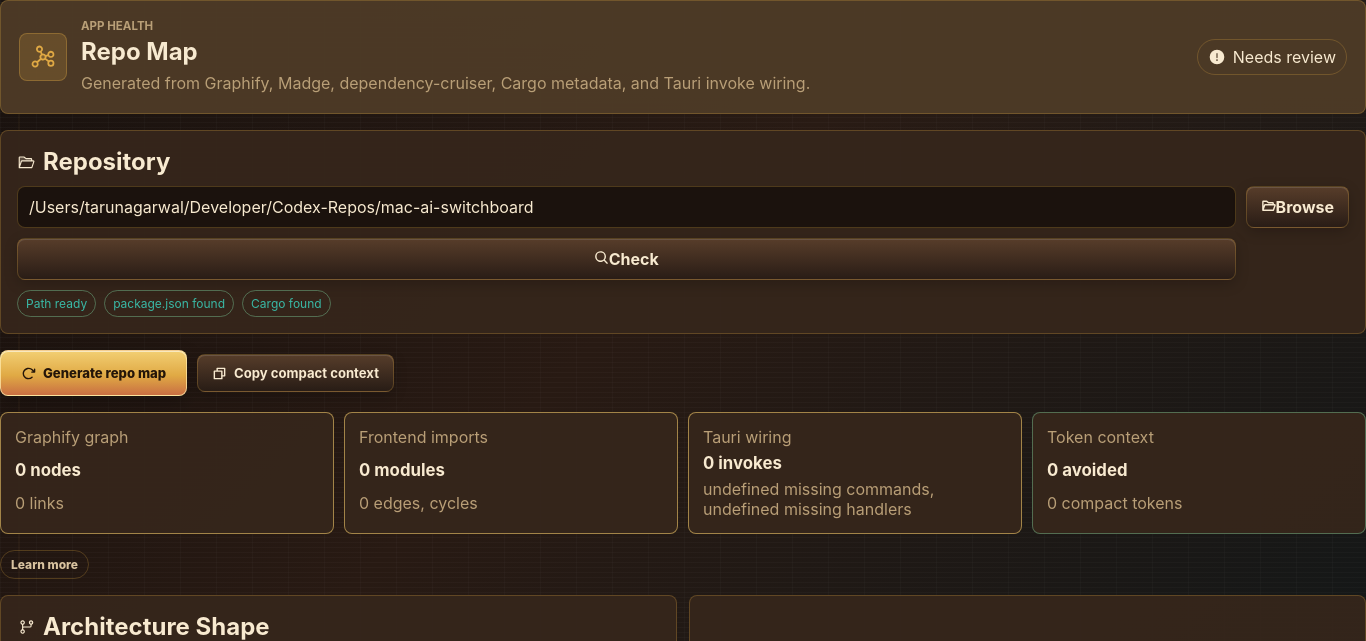
RepoMapView job and artifact flows › surfaces generation failure and retries successfully
The image size is (1366, 641).
Expected: the text "Path ready" is shown, [17, 290, 96, 317]
Click the button "Generate repo map".
click(94, 373)  # box [0, 350, 187, 396]
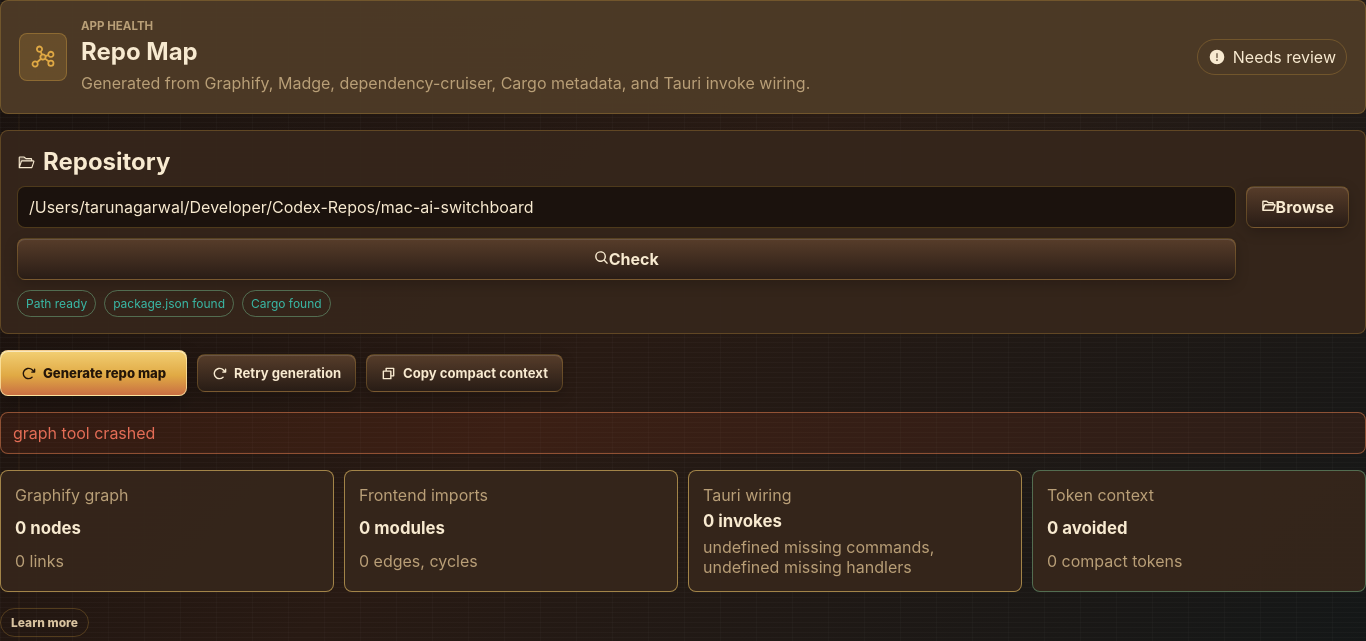
Expected: the message "graph tool crashed" is shown, [0, 412, 1365, 454]
Click the button "Retry generation".
click(277, 373)  # box [197, 354, 356, 392]
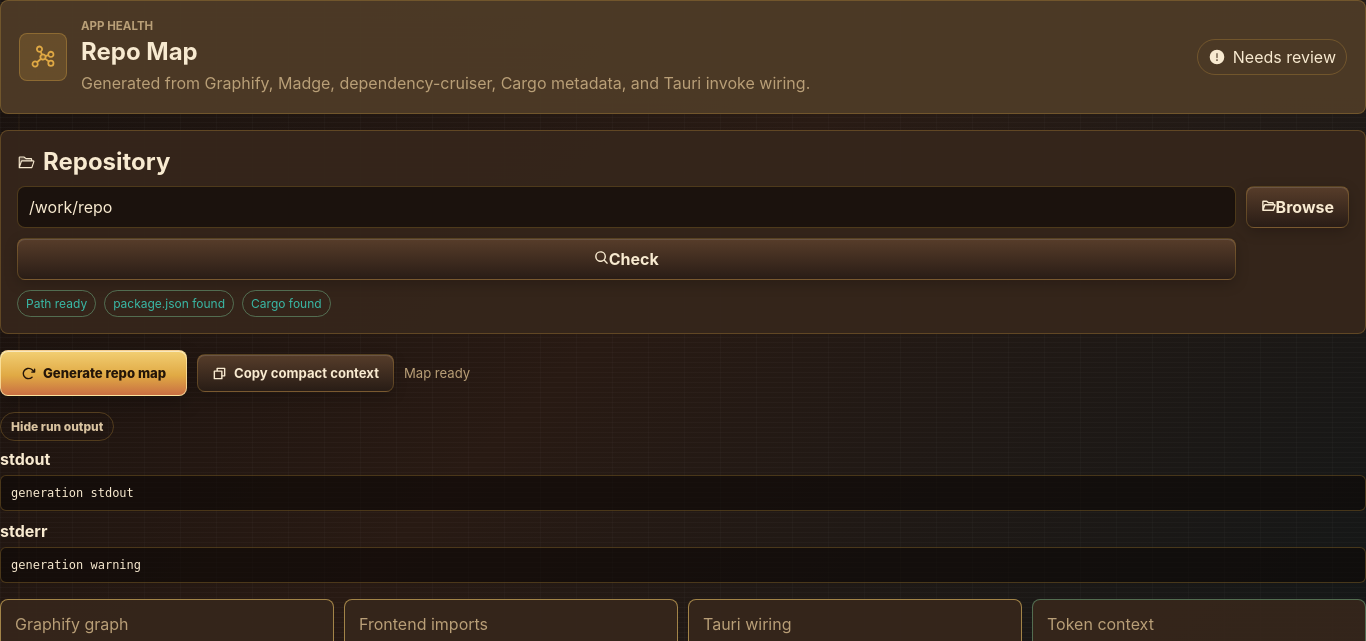
Expected: the text "Map ready" is shown, [404, 365, 470, 381]
